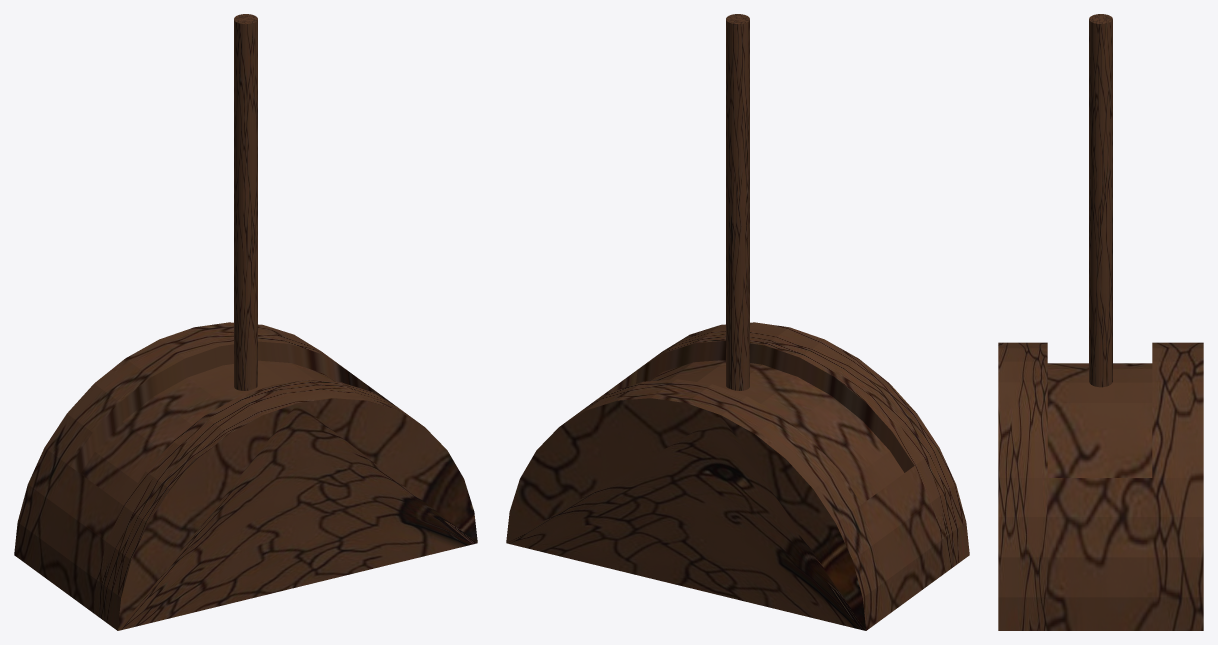
File: lever.fbx
3 views of the same model, side by side, from view 1: azimuth 30°, elevation 25°; view 2: azimuth 150°, elevation 25°; view 3: azimuth 270°, elevation 25° (orthographic).
Visible parts, largest first — view 1: Cylinder; view 2: Cylinder; view 3: Cylinder.
Boxes of the visible parts, x1=… form: Cylinder: x1=14, y1=14, x2=477, y2=630; Cylinder: x1=506, y1=14, x2=969, y2=630; Cylinder: x1=998, y1=14, x2=1203, y2=630.
Bounding box in the file's own units: 2 × 0.9962 × 2.81.
1 material, 1 textured.
